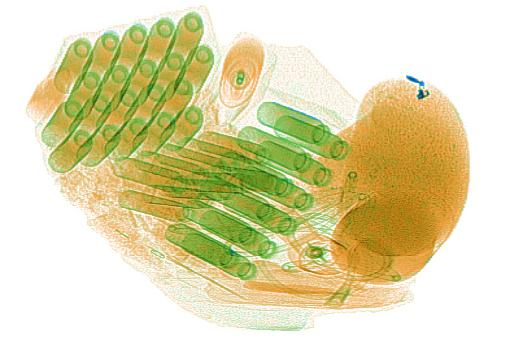plasticBottleWithaNozzle: (219, 31, 265, 108)
